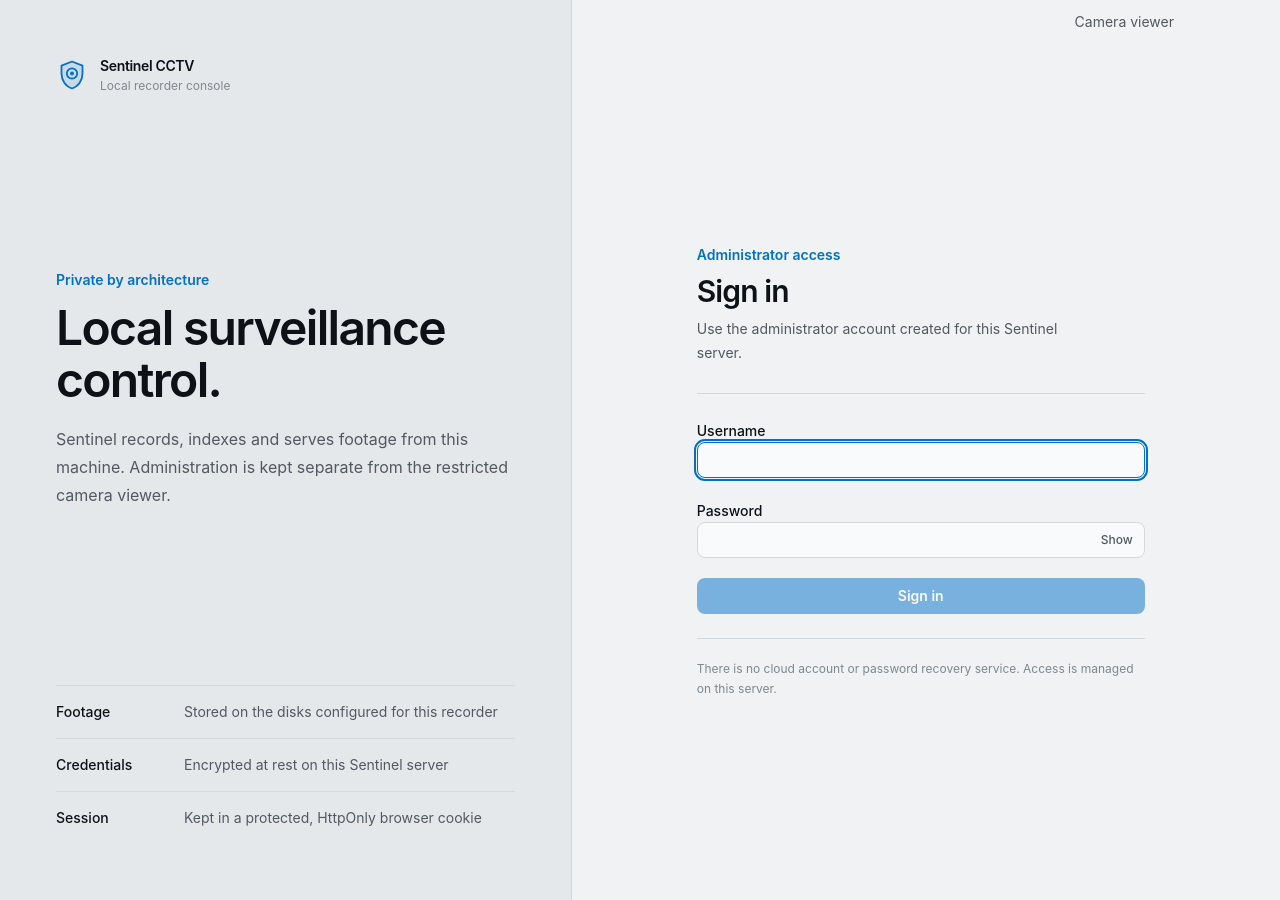
LoginPage › explains an unreachable server rather than failing silently
Step 1. Type "operator" into the field labelled "Username" → (921, 460), box [697,442,1145,478]
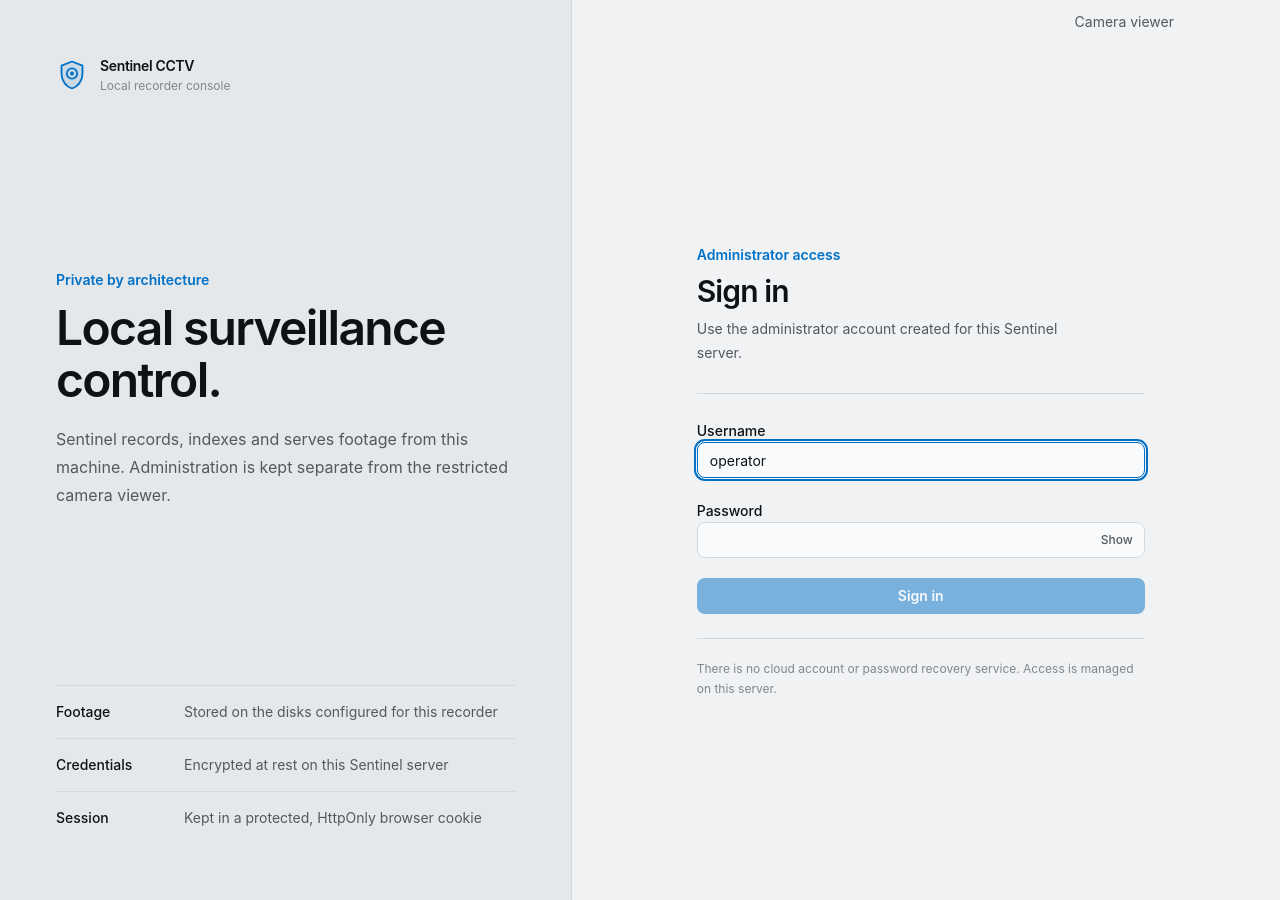
Step 2. Type "secret-password" into the password field labelled "Password" → (921, 540), box [697,522,1145,558]
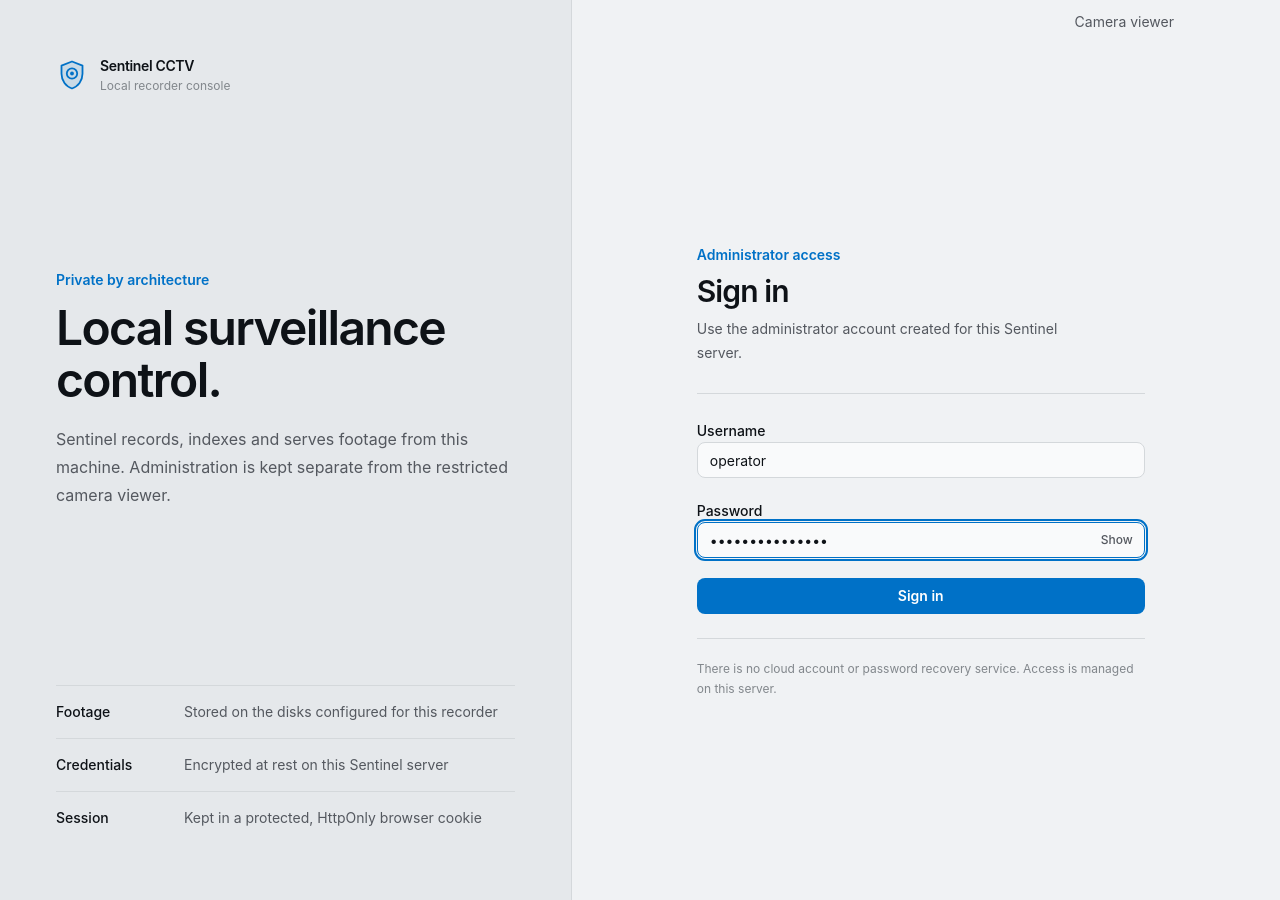
Step 3. Click the button "Sign in" → (921, 596), box [697,578,1145,614]
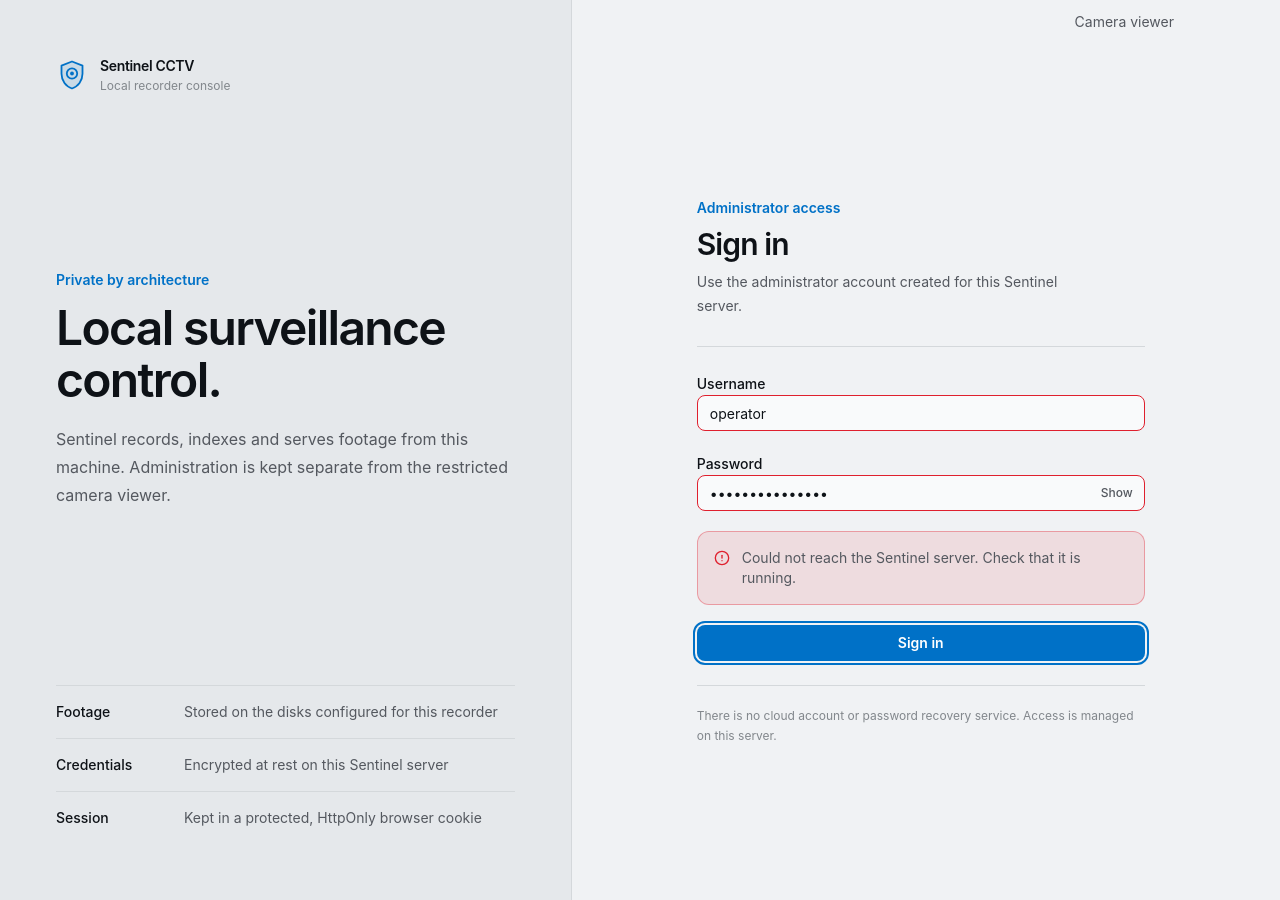
Result: the message shows "Could not reach" at [742,549,1081,586]
